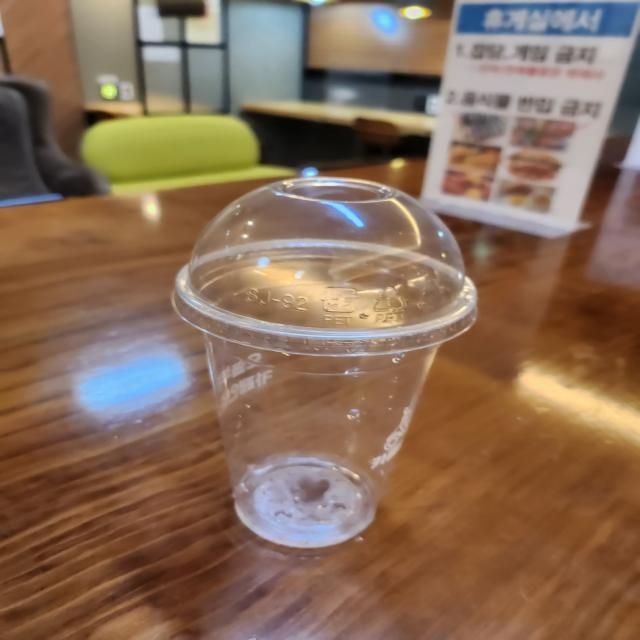plastic_cup_lid: (172, 159, 488, 353)
